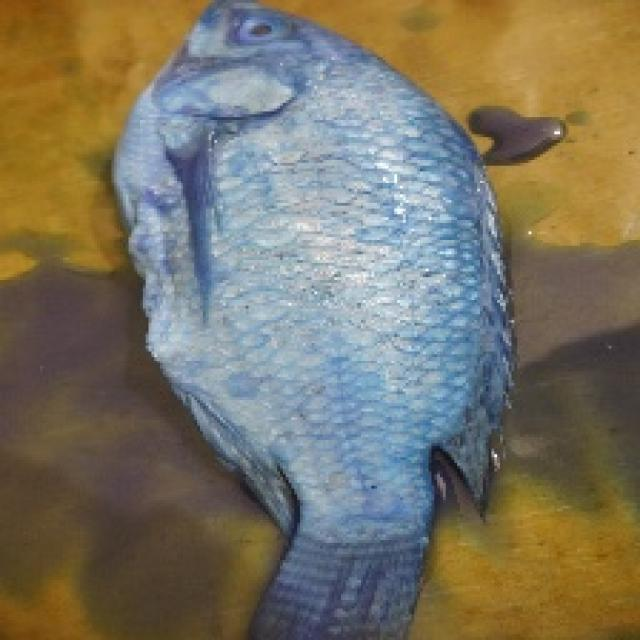Non-Fresh: (105, 0, 543, 637)
